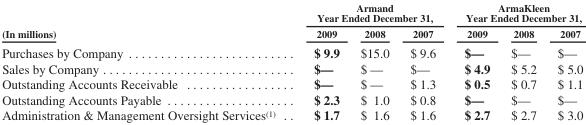table: (1, 1, 582, 122)
table column: (1, 1, 293, 122), (293, 1, 349, 122), (349, 1, 399, 122), (399, 1, 449, 122), (449, 1, 499, 122), (499, 1, 546, 122), (546, 1, 582, 122)
table column header: (1, 1, 582, 42)
table row: (1, 1, 582, 25), (1, 42, 582, 60), (1, 25, 582, 42), (1, 75, 582, 91), (1, 106, 582, 122), (1, 60, 582, 75), (1, 91, 582, 106)
table spanning cell: (1, 1, 293, 42), (293, 1, 449, 25), (449, 1, 582, 25)
